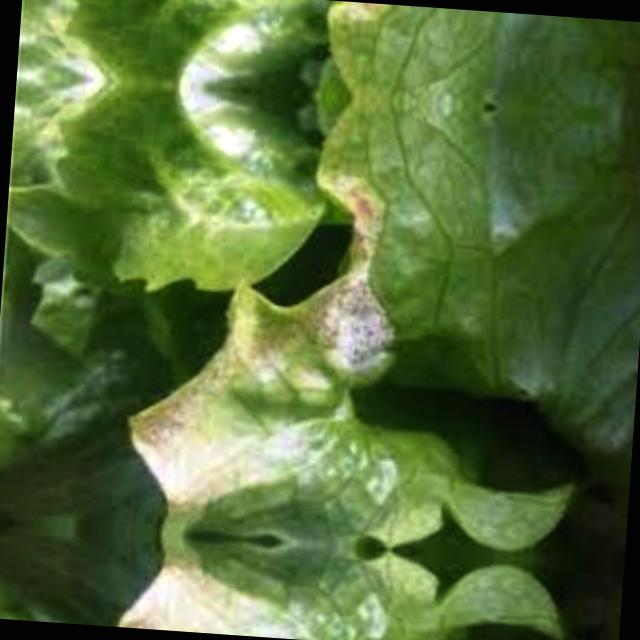Downy_mildew: (96, 123, 487, 544), (88, 538, 457, 640), (129, 0, 496, 63)
